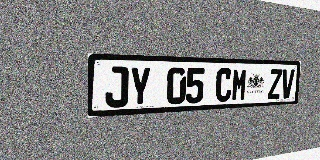0: (166, 67, 186, 105)
5: (186, 68, 205, 104)
C: (215, 68, 232, 102)
J: (105, 66, 129, 108)
M: (231, 68, 248, 101)
V: (280, 69, 295, 99)
Y: (129, 67, 151, 107)
Z: (268, 69, 282, 99)
